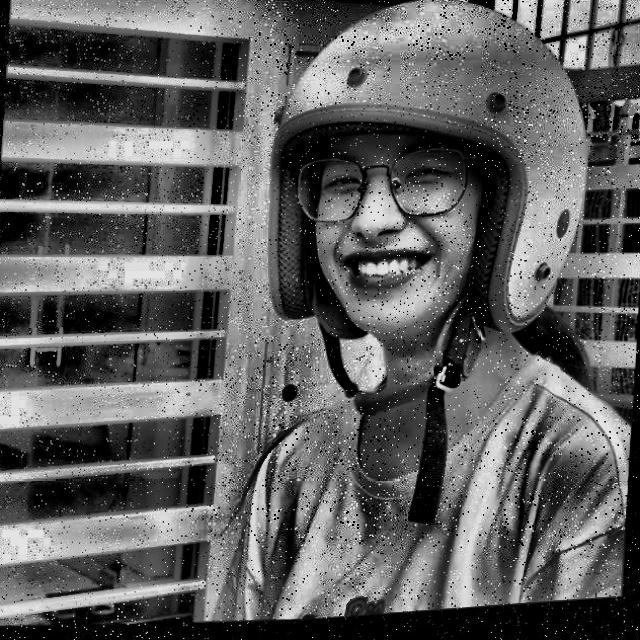Helmet: (247, 0, 608, 444)
